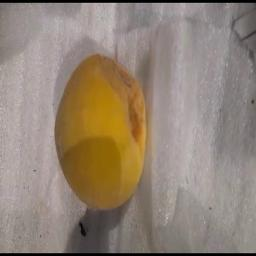Peach Rotten: (47, 48, 162, 222)
